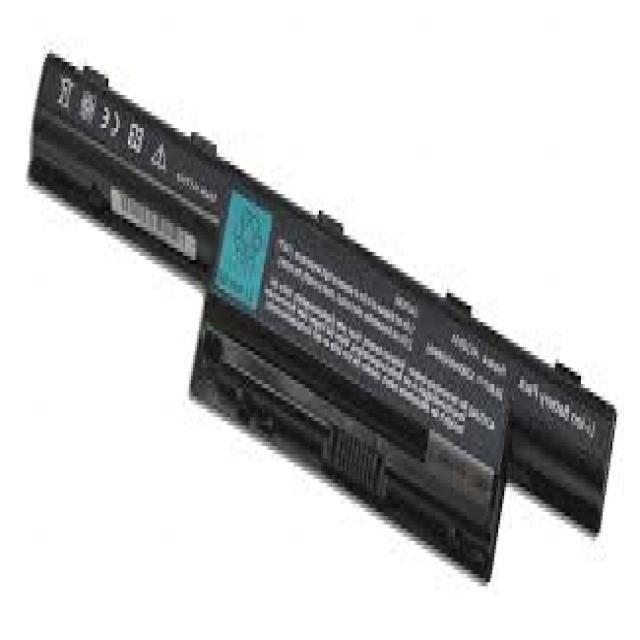battery: (25, 53, 619, 588)
